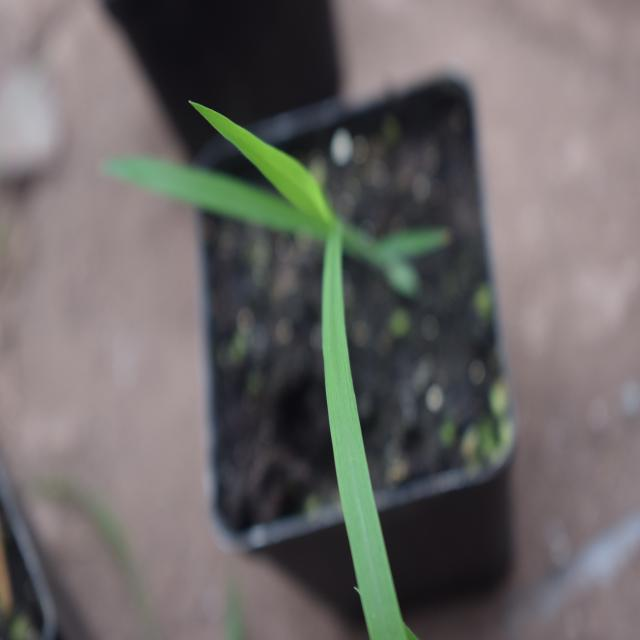crabgrass: (134, 82, 408, 620)
